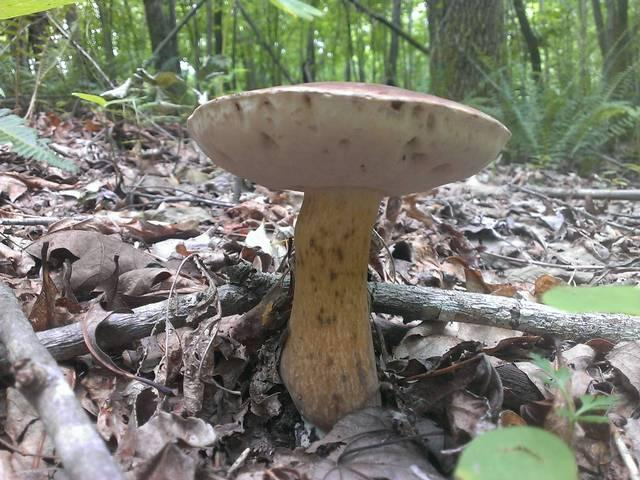Non-edible Mushroom: (185, 79, 512, 434)
